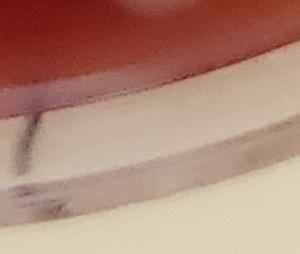colony: (102, 0, 207, 28)
